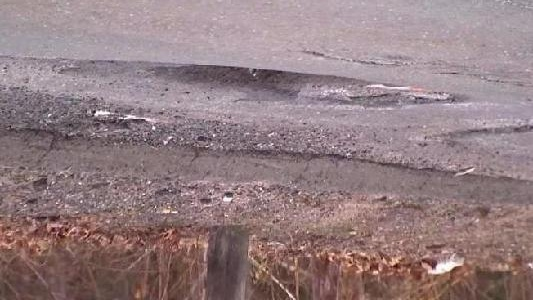pothole: (154, 60, 466, 111)
